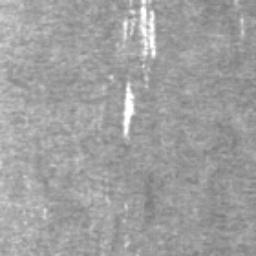White rust: (122, 0, 158, 62), (123, 80, 136, 138)
